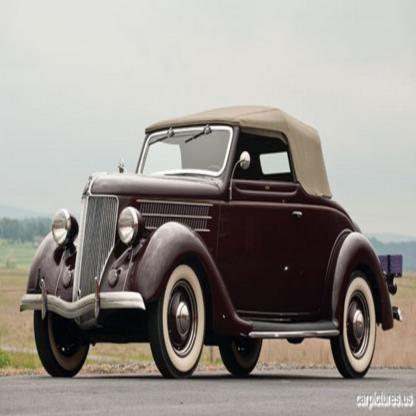Car: (21, 105, 404, 380)
